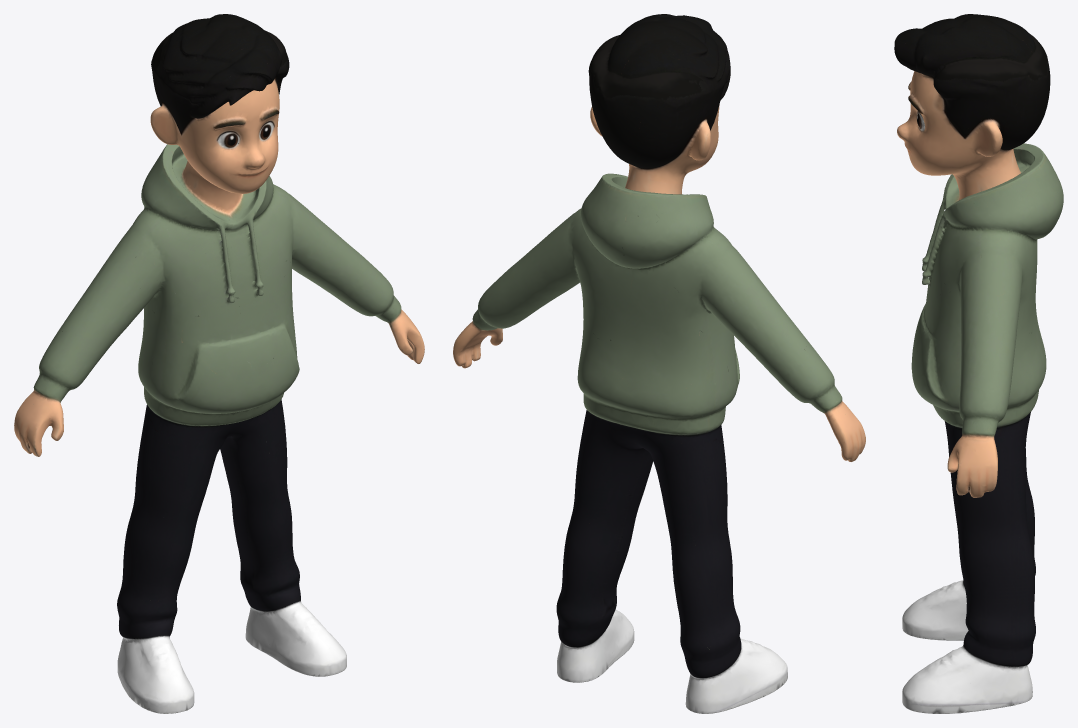
Rendered from jongwoo-hoodie.obj.
3 views of the same model, side by side, from view 1: azimuth 30°, elevation 25°; view 2: azimuth 150°, elevation 25°; view 3: azimuth 270°, elevation 25° (orthographic).
Parts seen in each view (by area): view 1: JongwooHoodie; view 2: JongwooHoodie; view 3: JongwooHoodie.
Boxes of the visible parts, bbox=[...] form: JongwooHoodie: bbox=[14, 14, 424, 713]; JongwooHoodie: bbox=[453, 14, 865, 713]; JongwooHoodie: bbox=[894, 14, 1063, 713].
Bounding box in the file's own units: 1.22 × 1.9 × 0.4503.
Materials: 1 (1 with a texture image).
